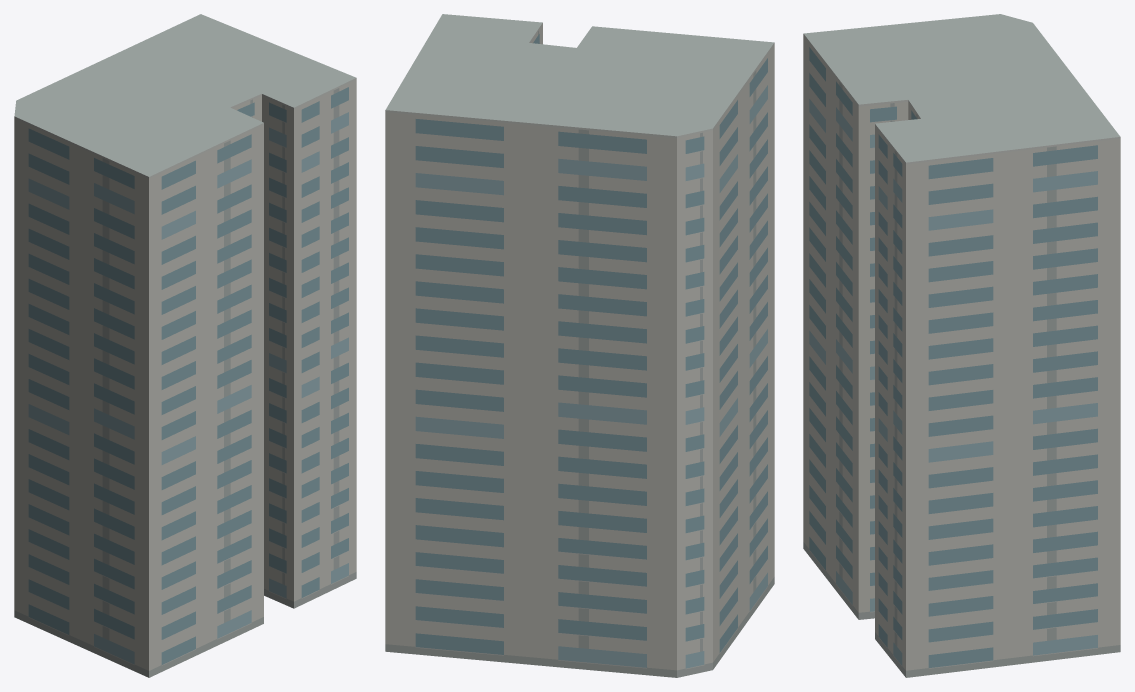
Rendered from residential-a68c9442-15fb-461f-b607-c2c802a3736f.glb.
3 views of the same model, side by side, from view 1: azimuth 30°, elevation 25°; view 2: azimuth 150°, elevation 25°; view 3: azimuth 270°, elevation 25° (orthographic). The views are drawn at different scales.
Visible parts, largest first — view 1: residential-a68c9442-15fb-461f-b607-c2c802a3736f.tmp; view 2: residential-a68c9442-15fb-461f-b607-c2c802a3736f.tmp; view 3: residential-a68c9442-15fb-461f-b607-c2c802a3736f.tmp.
Boxes of the visible parts, x1,y1,x2,y2 form: residential-a68c9442-15fb-461f-b607-c2c802a3736f.tmp: [14, 14, 356, 677]; residential-a68c9442-15fb-461f-b607-c2c802a3736f.tmp: [385, 14, 774, 677]; residential-a68c9442-15fb-461f-b607-c2c802a3736f.tmp: [803, 14, 1120, 677].
Bounding box in the file's own units: 41.46 × 67 × 37.37.
